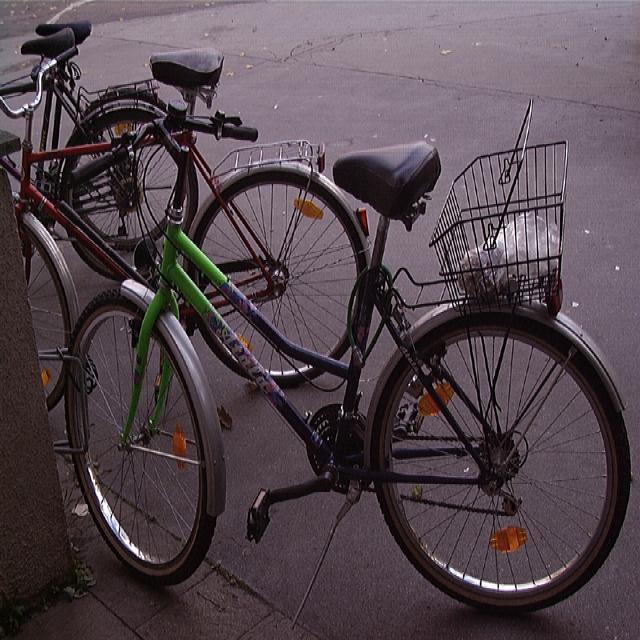bicycle: (62, 99, 632, 612)
